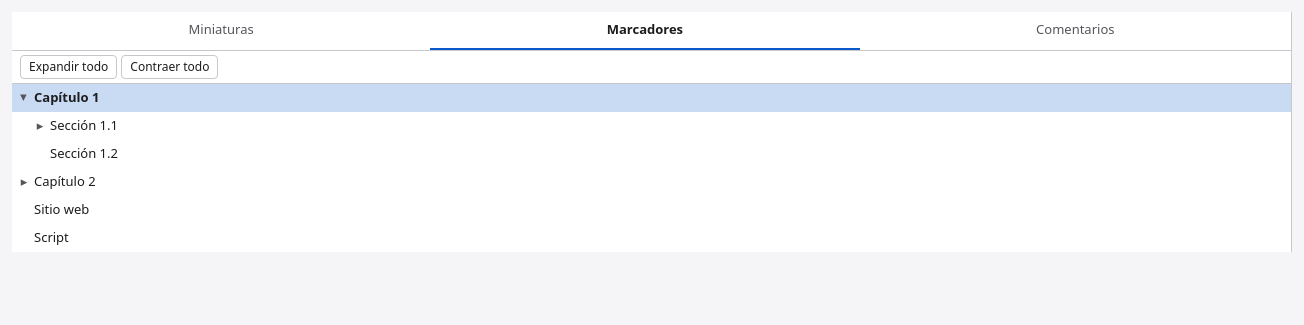
Test case: Marcadores · estados › «Expandir todo» y «Contraer todo» cambian todos los marcadores con hijos
Click the button "Expandir todo" at (69, 66), box left=20, top=54, right=117, bottom=78
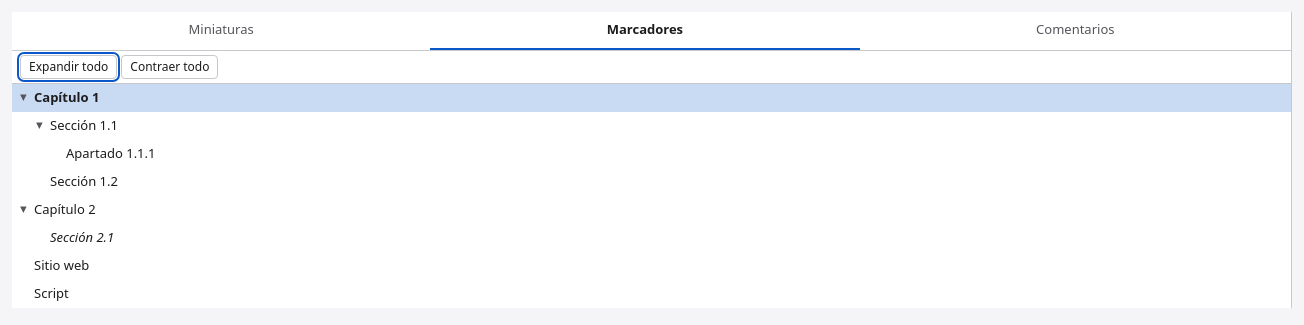
Expected: the list item "Capítulo 2" is expanded, left=16, top=200, right=96, bottom=218
Expected: the list item "Sección 1.1" is expanded, left=32, top=116, right=118, bottom=134
Click the button "Contraer todo" at (170, 66), box left=121, top=54, right=218, bottom=78
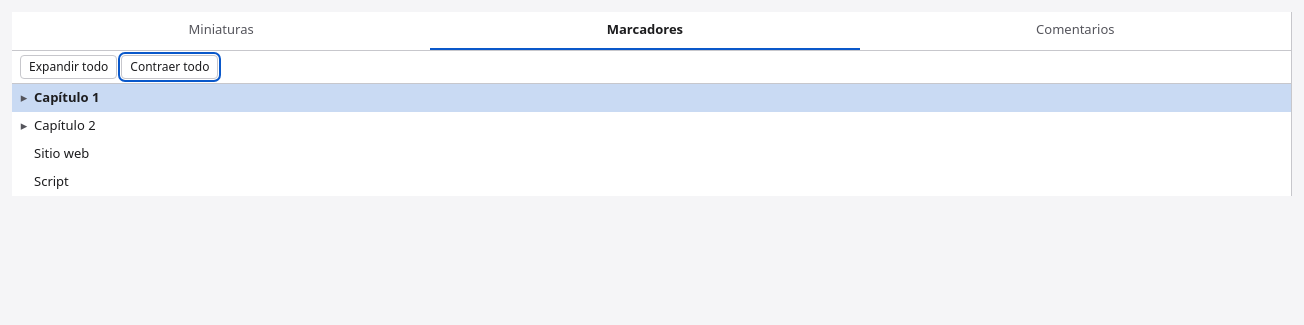
Expected: the list item "Capítulo 1" is collapsed, left=12, top=84, right=1291, bottom=112
Expected: the text "Sección 1.1" is gone
